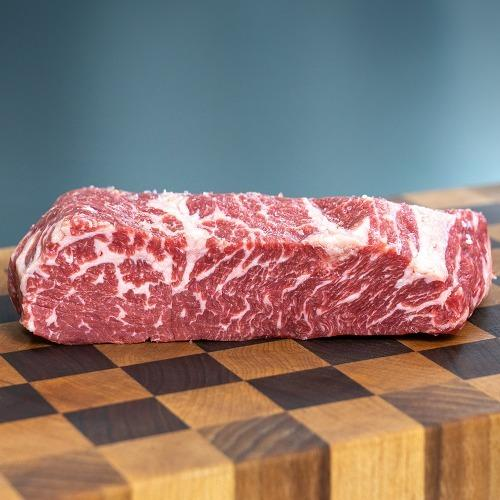beef: (5, 145, 388, 264)
